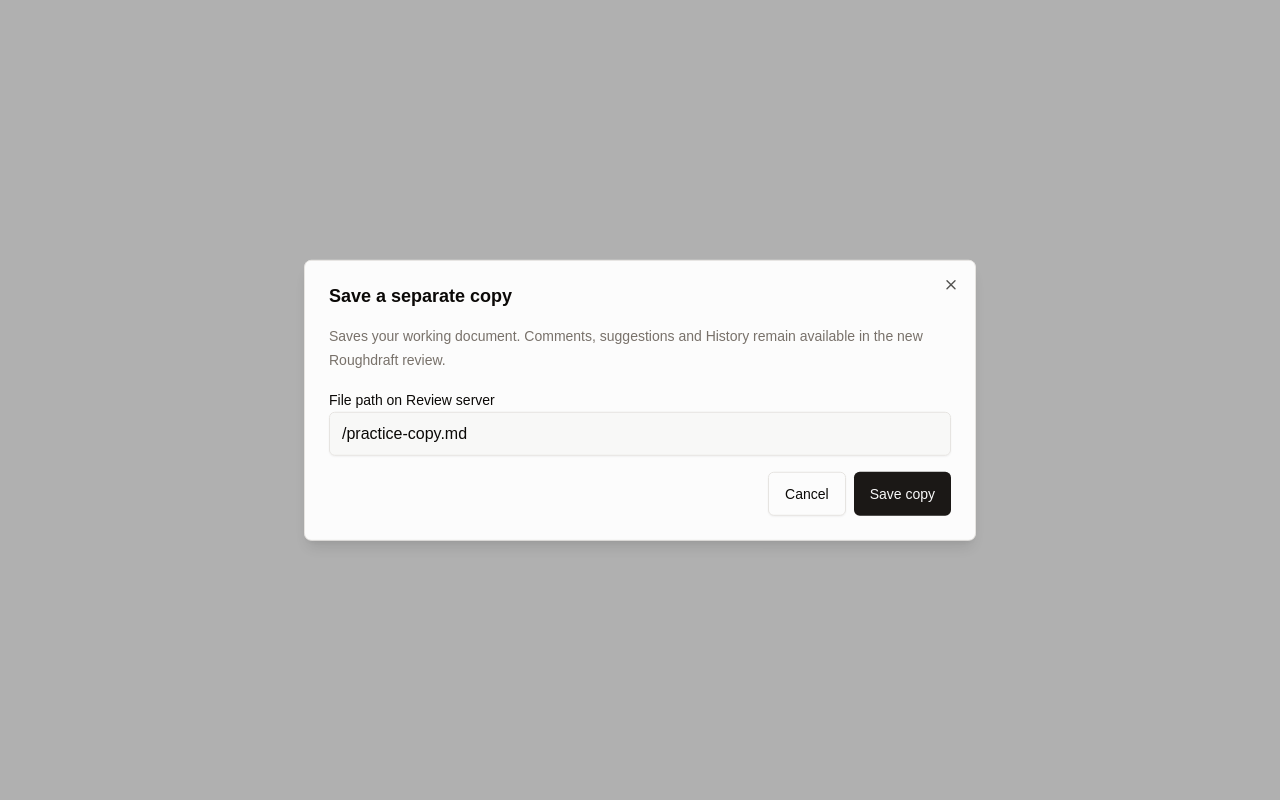
Test: a timed-out copy unlocks editing and reopening learns the same saved path
Later steps or results of the test are not shown.
Click the button with test id "revision-save-copy-confirm": (902, 493) [854,471,951,515]
Wait 10000 ms
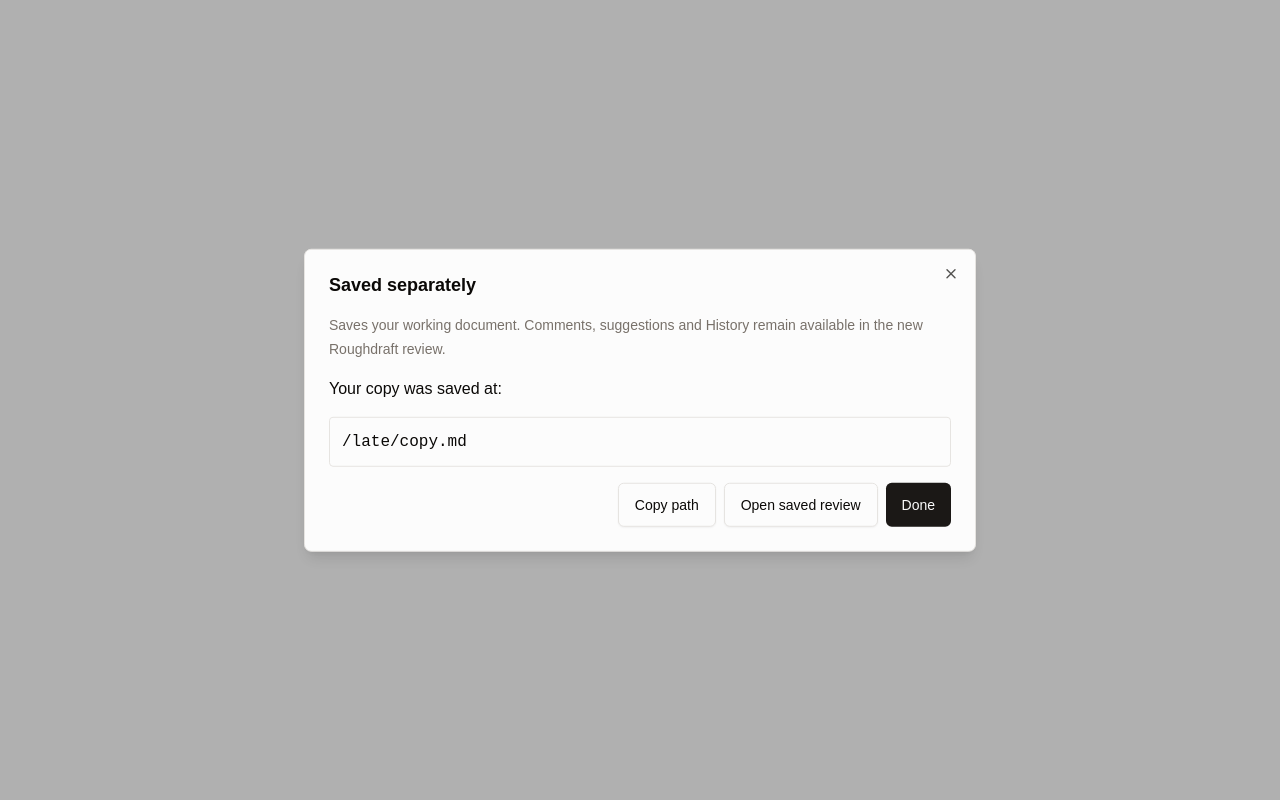
Expected: the text with test id "revision-copy-saved-path" reads "/late/copy.md", [342,432,467,450]
